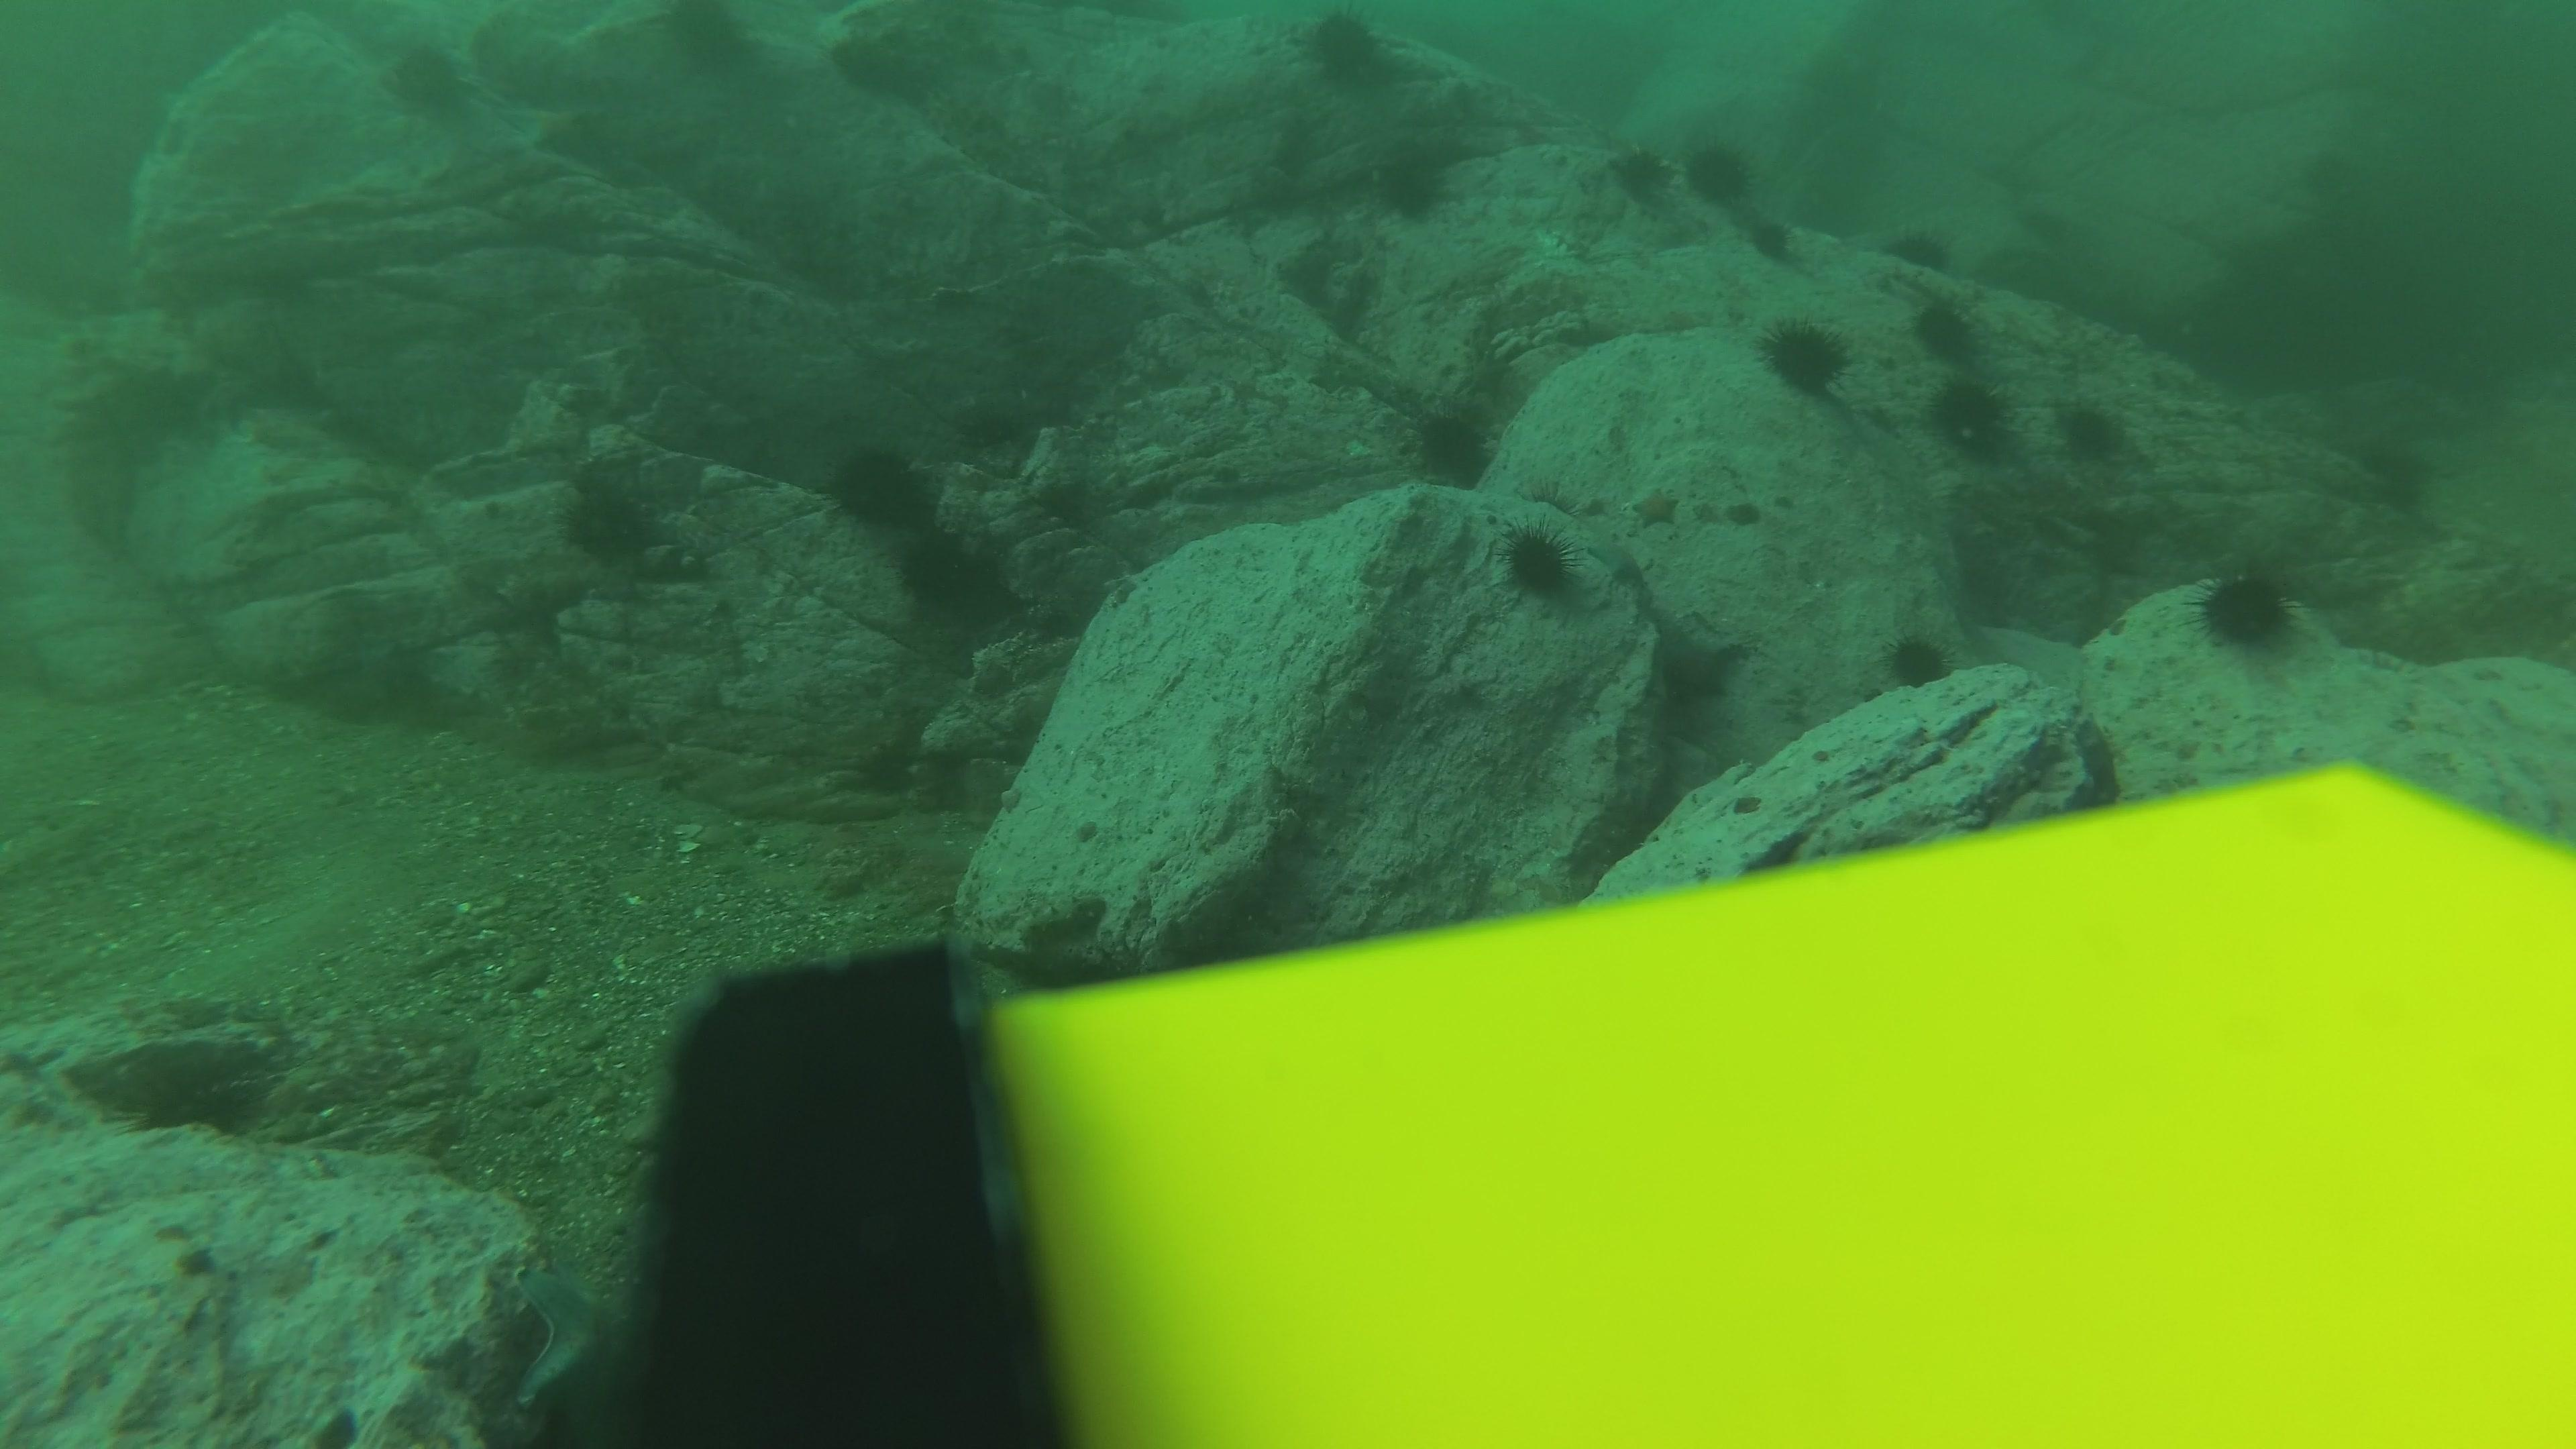echinus: (99, 1033, 278, 1143), (819, 437, 939, 536), (2190, 559, 2307, 660), (552, 469, 667, 570), (893, 524, 1001, 617), (1293, 7, 1401, 94), (1401, 400, 1502, 492), (653, 0, 763, 83), (1493, 520, 1592, 610), (379, 37, 478, 127), (1755, 313, 1854, 400), (1923, 373, 2017, 460), (1368, 140, 1458, 225), (2353, 433, 2442, 517), (1677, 133, 1760, 211), (2051, 393, 2135, 467), (1907, 290, 1985, 364), (1877, 625, 1959, 695), (1605, 138, 1675, 209), (1884, 221, 1953, 274), (1744, 214, 1799, 267)
starfish: (499, 1246, 658, 1437), (1649, 614, 1750, 711), (1973, 616, 2089, 694), (1629, 483, 1684, 533)
